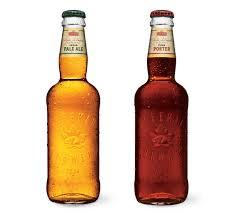Glass bottle: (124, 8, 201, 209), (38, 6, 105, 213)
